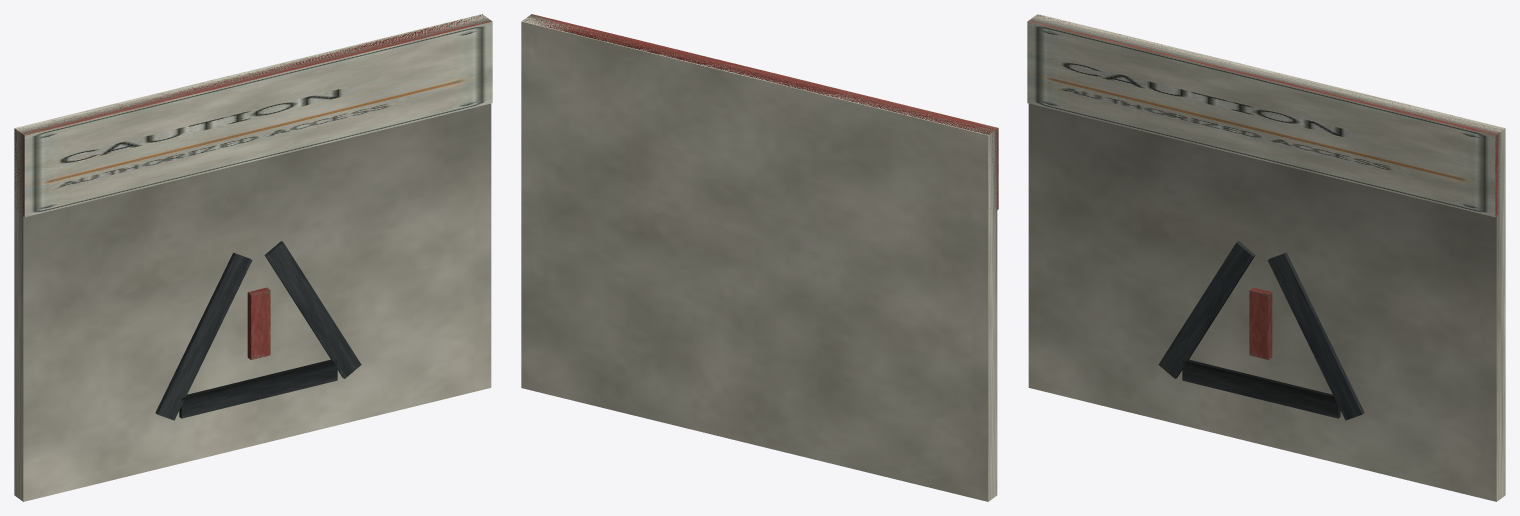
The model's file is hazard_sign.glb.
3 views of the same model, side by side, from view 1: azimuth 30°, elevation 25°; view 2: azimuth 150°, elevation 25°; view 3: azimuth 330°, elevation 25° (orthographic).
Parts seen in each view (by area): view 1: HazardSign; view 2: HazardSign; view 3: HazardSign.
Part boxes in pixels (<box>): HazardSign: <box>14,14,492,501</box>; HazardSign: <box>521,14,998,501</box>; HazardSign: <box>1027,14,1505,501</box>.
Size of the model in its own units: 0.6 by 0.45 by 0.028.
Materials: 1 (1 with a texture image).
